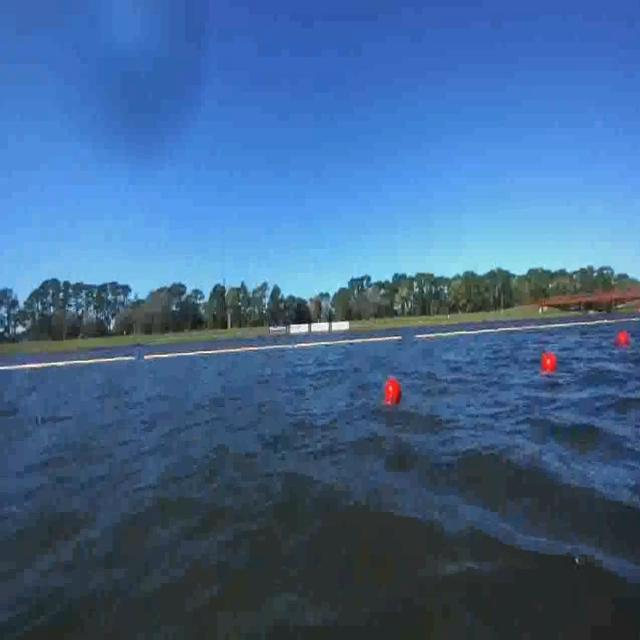red-buoy: (383, 375, 399, 403), (543, 352, 559, 374), (618, 332, 631, 350)
